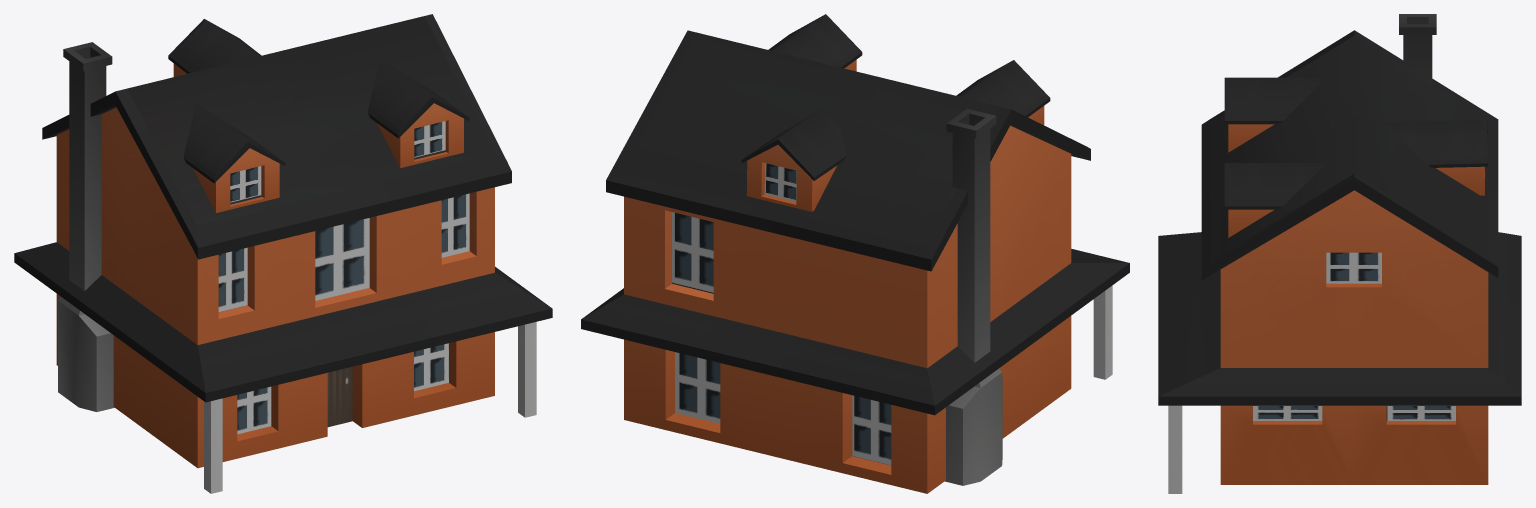
The model's file is House_complex2.FBX.
3 views of the same model, side by side, from view 1: azimuth 30°, elevation 25°; view 2: azimuth 150°, elevation 25°; view 3: azimuth 270°, elevation 25° (orthographic). The views are drawn at different scales.
Visible parts, largest first — view 1: Box009; view 2: Box009; view 3: Box009.
Part boxes in pixels (<box>): Box009: <box>14,14,552,493</box>; Box009: <box>581,14,1129,493</box>; Box009: <box>1158,14,1521,493</box>.
Size of the model in its own units: 523 by 493 by 498.
